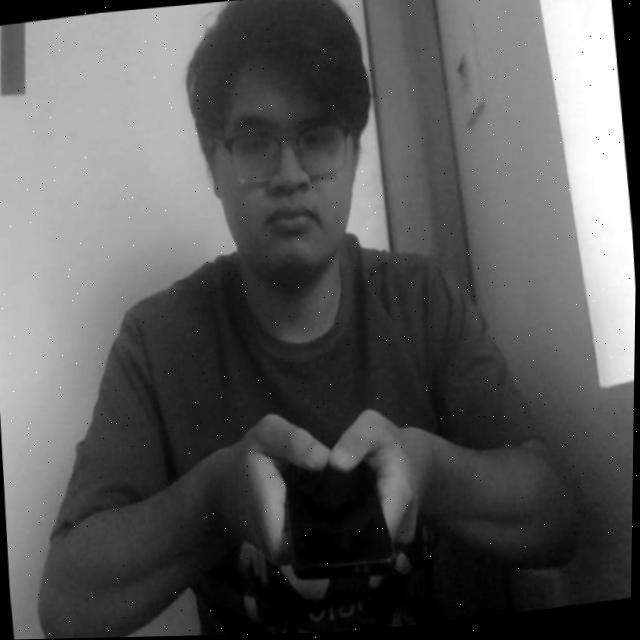phone: (260, 414, 417, 596)
